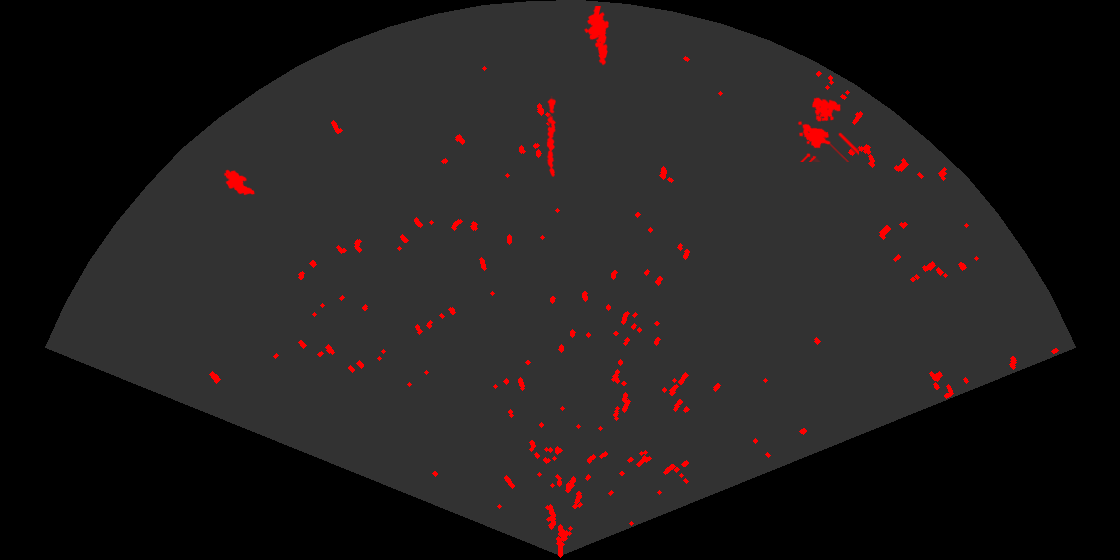AUV: (222, 168, 257, 197)
cage: (796, 96, 859, 162)
chain: (545, 96, 558, 177)
frogman: (582, 6, 611, 67)
